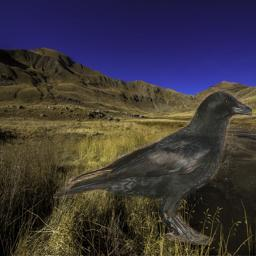Crow: (53, 89, 252, 245)
